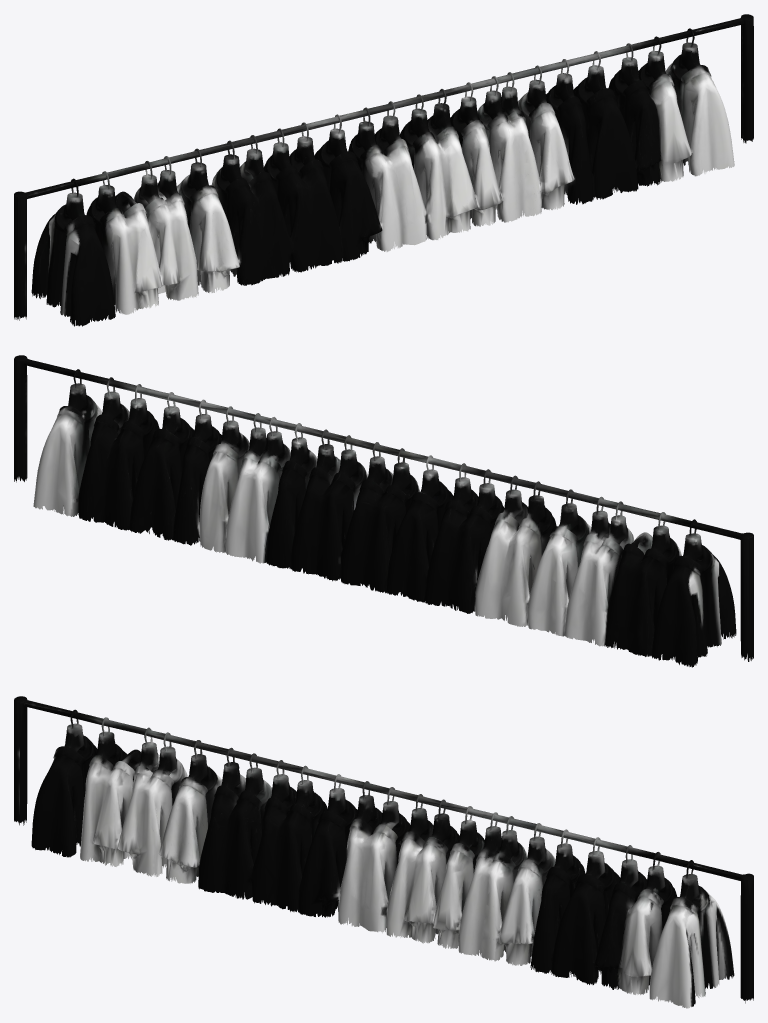
Rendered from clothing-rack.glb.
3 renders of one model, top to bottom at view 1: azimuth 30°, elevation 25°; view 2: azimuth 150°, elevation 25°; view 3: azimuth 330°, elevation 25°, orthographic.
Parts seen in each view (by area): view 1: node_0; view 2: node_0; view 3: node_0.
Boxes of the visible parts, x1,y1,x2,y2 form: node_0: (14,14,753,326); node_0: (14,355,753,667); node_0: (14,696,753,1008).
Size of the model in its own units: 1.09 by 0.1799 by 0.1242.
1 material, 1 textured.
